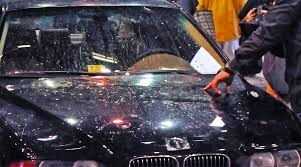Scratch: (56, 79, 242, 131)
